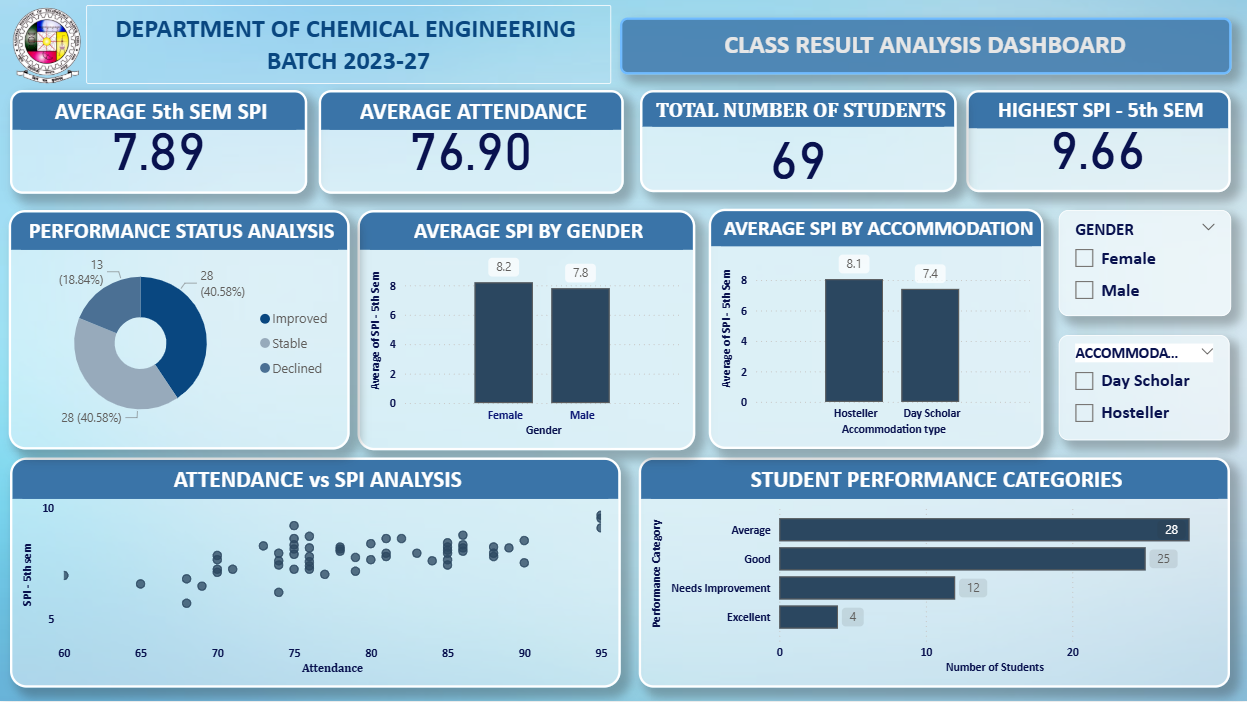

Layout of this report page (visuals, bound fields, positions):
{"tool":"powerbi","page":{"name":"Page 1","canvas":[1280,720],"ordinal":0},"visuals":[{"type":"card","title":"AVERAGE 5th SEM SPI","fields":{"Values":["Avg(cleaned_student_dataset.SPI - 5th Sem)"]},"box":[10.4,92.2,305.2,106.5],"z":0},{"type":"card","title":"AVERAGE ATTENDANCE","fields":{"Values":["Avg(cleaned_student_dataset.Attendance)"]},"box":[327.3,92.2,313,106.5],"z":1000},{"type":"card","title":"HIGHEST SPI - 5th SEM","fields":{"Values":["Max(cleaned_student_dataset.SPI - 5th Sem)"]},"box":[990.9,92.2,271.4,105.2],"z":2000},{"type":"card","title":"TOTAL NUMBER OF STUDENTS","fields":{"Values":["Count(cleaned_student_dataset.ROLL NO)"]},"box":[655.8,92.2,324.7,105.2],"z":3000},{"type":"clusteredBarChart","title":"STUDENT PERFORMANCE CATEGORIES","fields":{"Category":["cleaned_student_dataset.Performance Category"],"Y":["CountNonNull(cleaned_student_dataset.ROLL NO)"]},"box":[655.1,469.2,606.4,235.9],"z":4000},{"type":"lineClusteredColumnComboChart","title":"AVERAGE SPI BY GENDER","fields":{"Category":["cleaned_student_dataset.Gender"],"Y":["Avg(cleaned_student_dataset.SPI - 5th Sem)"]},"box":[366.9,216,346,246.6],"z":5000},{"type":"lineClusteredColumnComboChart","title":"AVERAGE SPI BY ACCOMMODATION","fields":{"Category":["cleaned_student_dataset.Stay"],"Y":["Avg(cleaned_student_dataset.SPI - 5th Sem)"]},"box":[726.4,214.7,343.6,246.6],"z":6000},{"type":"slicer","fields":{"Values":["cleaned_student_dataset.Gender"]},"box":[1085.7,215.6,176.6,109.1],"z":7000},{"type":"slicer","fields":{"Values":["cleaned_student_dataset.Stay"]},"box":[1086.1,343.1,175,108.3],"z":8000},{"type":"scatterChart","title":"ATTENDANCE vs SPI ANALYSIS","fields":{"X":["cleaned_student_dataset.Attendance"],"Y":["cleaned_student_dataset.SPI - 5th Sem"]},"box":[9.7,469.4,626.4,236.1],"z":9000},{"type":"textbox","box":[636,18,627,58],"z":10000},{"type":"image","box":[0,0,97.2,91.7],"z":11000},{"type":"textbox","box":[88.5,5.1,538.5,80.8],"z":12000},{"type":"donutChart","title":"PERFORMANCE STATUS ANALYSIS","fields":{"Y":["Count(cleaned_student_dataset.ROLL NO)"],"Category":["cleaned_student_dataset.Performance Status"]},"box":[8.6,216,349.7,245.4],"z":13000}]}

Visuals, with their boxes in screenshot pixels (x1, y1, x2, y2), scaled from the page's 1280x720 canvas onto the 1247x702 screenshot:
"AVERAGE 5th SEM SPI" card: rect(10, 90, 307, 194)
"AVERAGE ATTENDANCE" card: rect(319, 90, 624, 194)
"HIGHEST SPI - 5th SEM" card: rect(965, 90, 1230, 192)
"TOTAL NUMBER OF STUDENTS" card: rect(639, 90, 955, 192)
"STUDENT PERFORMANCE CATEGORIES" clusteredBarChart: rect(638, 457, 1229, 687)
"AVERAGE SPI BY GENDER" lineClusteredColumnComboChart: rect(357, 211, 695, 451)
"AVERAGE SPI BY ACCOMMODATION" lineClusteredColumnComboChart: rect(708, 209, 1042, 450)
slicer - cleaned_student_dataset.Gender: rect(1058, 210, 1230, 317)
slicer - cleaned_student_dataset.Stay: rect(1058, 335, 1229, 440)
"ATTENDANCE vs SPI ANALYSIS" scatterChart: rect(9, 458, 620, 688)
textbox: rect(620, 18, 1230, 74)
image: rect(0, 0, 95, 89)
textbox: rect(86, 5, 611, 84)
"PERFORMANCE STATUS ANALYSIS" donutChart: rect(8, 211, 349, 450)
